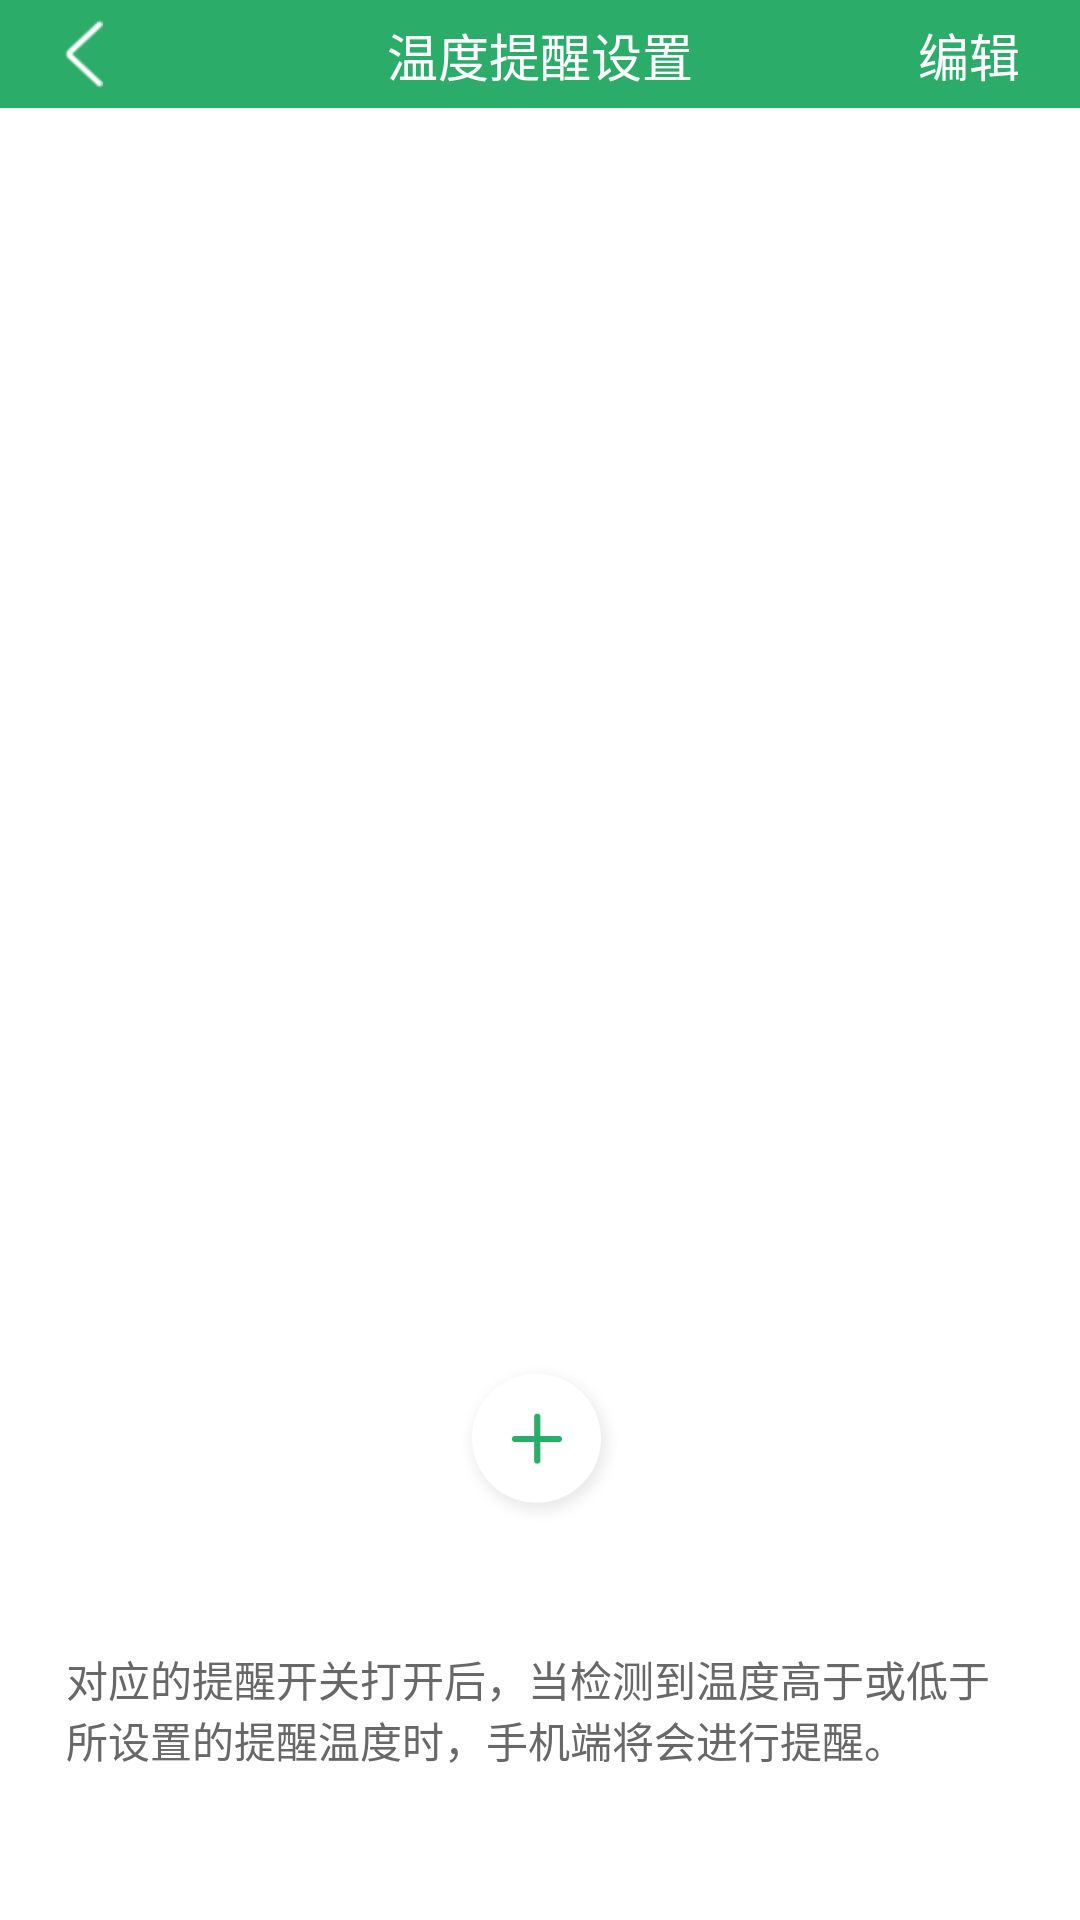

Icon bounding boxes for this 1080 × 1920 phone screenshot, format (x1, y1, x2, y2):
add: (512, 1413, 562, 1464)
back: (65, 20, 103, 88)
